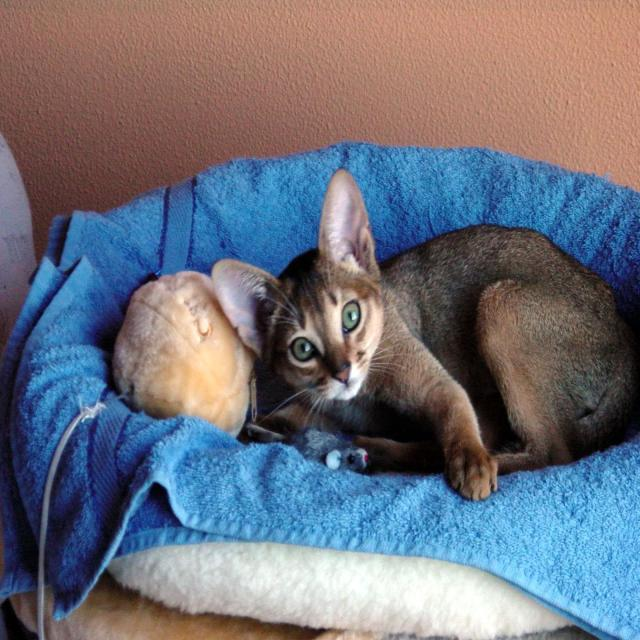Abyssinian: (210, 167, 389, 409)
